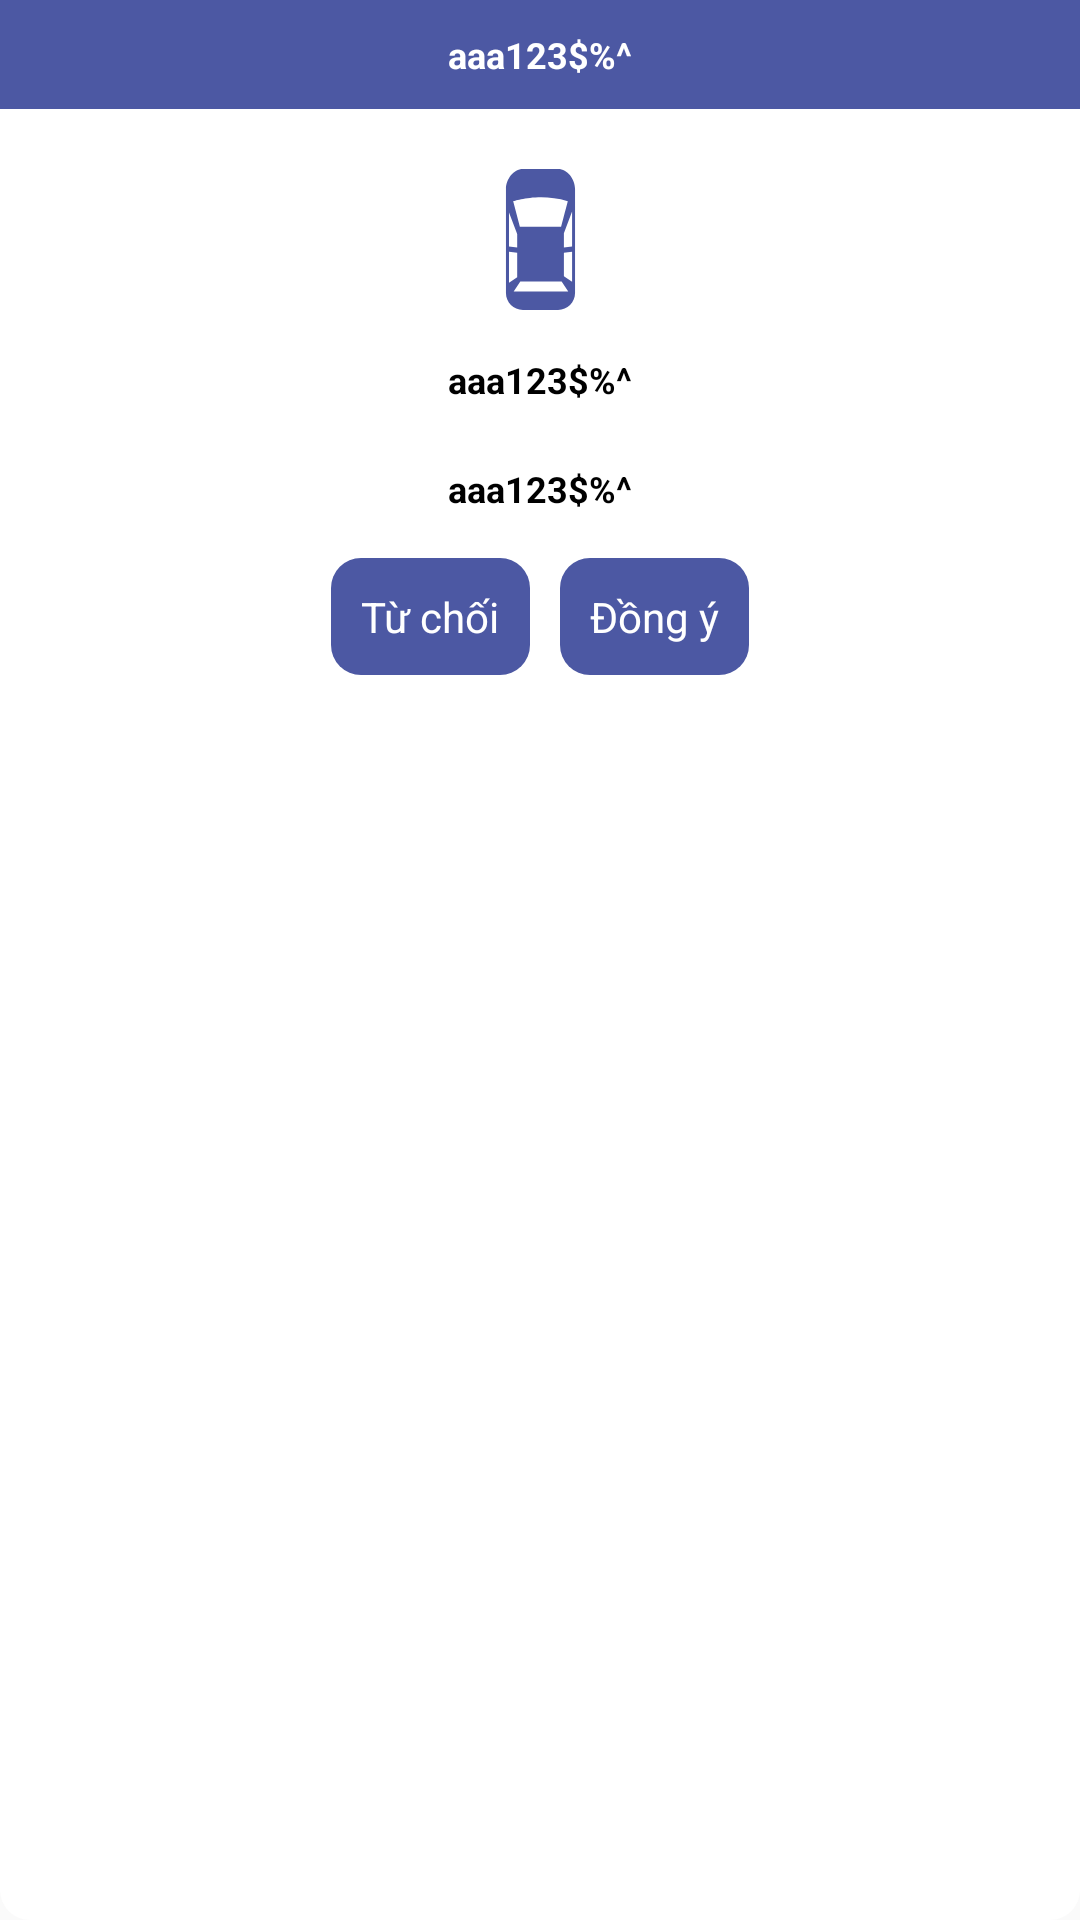

Screen size 1080x1920. Icon name, then its box in pixels as box=[x1, y1, x2, y2]:
car top view: box=[506, 169, 575, 310]
